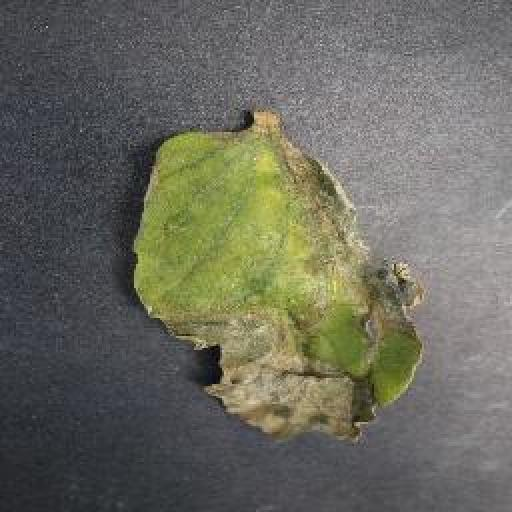Late Blight: (131, 116, 429, 444)
